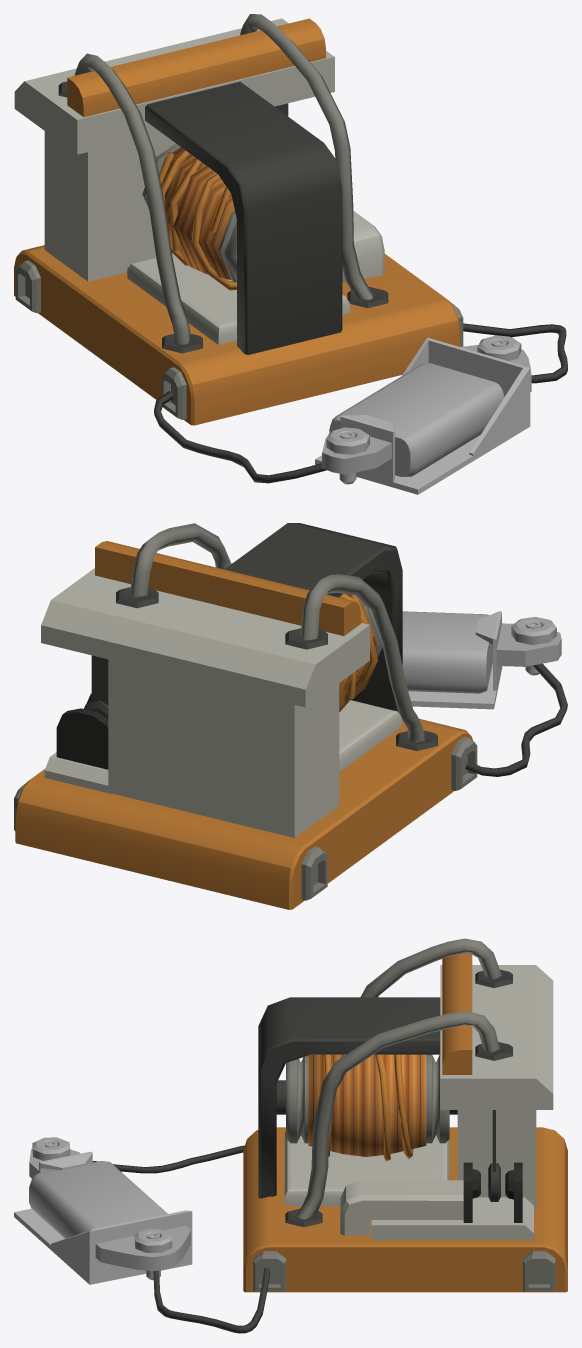
File: Relay01.fbx
3 views of the same model, one above another, from view 1: azimuth 30°, elevation 25°; view 2: azimuth 150°, elevation 25°; view 3: azimuth 270°, elevation 25° (orthographic). The views are drawn at different scales.
Visible parts, largest first — view 1: RelayMain, BatteryCase4, Battery1, Relay_Wires; view 2: RelayMain, Battery1, BatteryCase4, Relay_Wires, RelayNubbin; view 3: RelayMain, BatteryCase4, Battery1, Relay_Wires, RelayNubbin.
Boxes of the visible parts, x1,y1,x2,y2 form: RelayMain: (14, 14, 463, 425); BatteryCase4: (315, 335, 531, 494); Battery1: (329, 363, 504, 476); Relay_Wires: (154, 323, 567, 483); RelayMain: (14, 523, 477, 909); Battery1: (402, 611, 492, 693); BatteryCase4: (408, 611, 561, 709); Relay_Wires: (465, 663, 567, 776); RelayNubbin: (84, 655, 108, 718); RelayMain: (243, 938, 567, 1292); BatteryCase4: (14, 1137, 192, 1284); Battery1: (29, 1161, 167, 1238); Relay_Wires: (92, 1145, 269, 1333); RelayNubbin: (488, 1110, 500, 1201).
Size of the model in its own units: 2.32 by 1.5 by 3.03.
